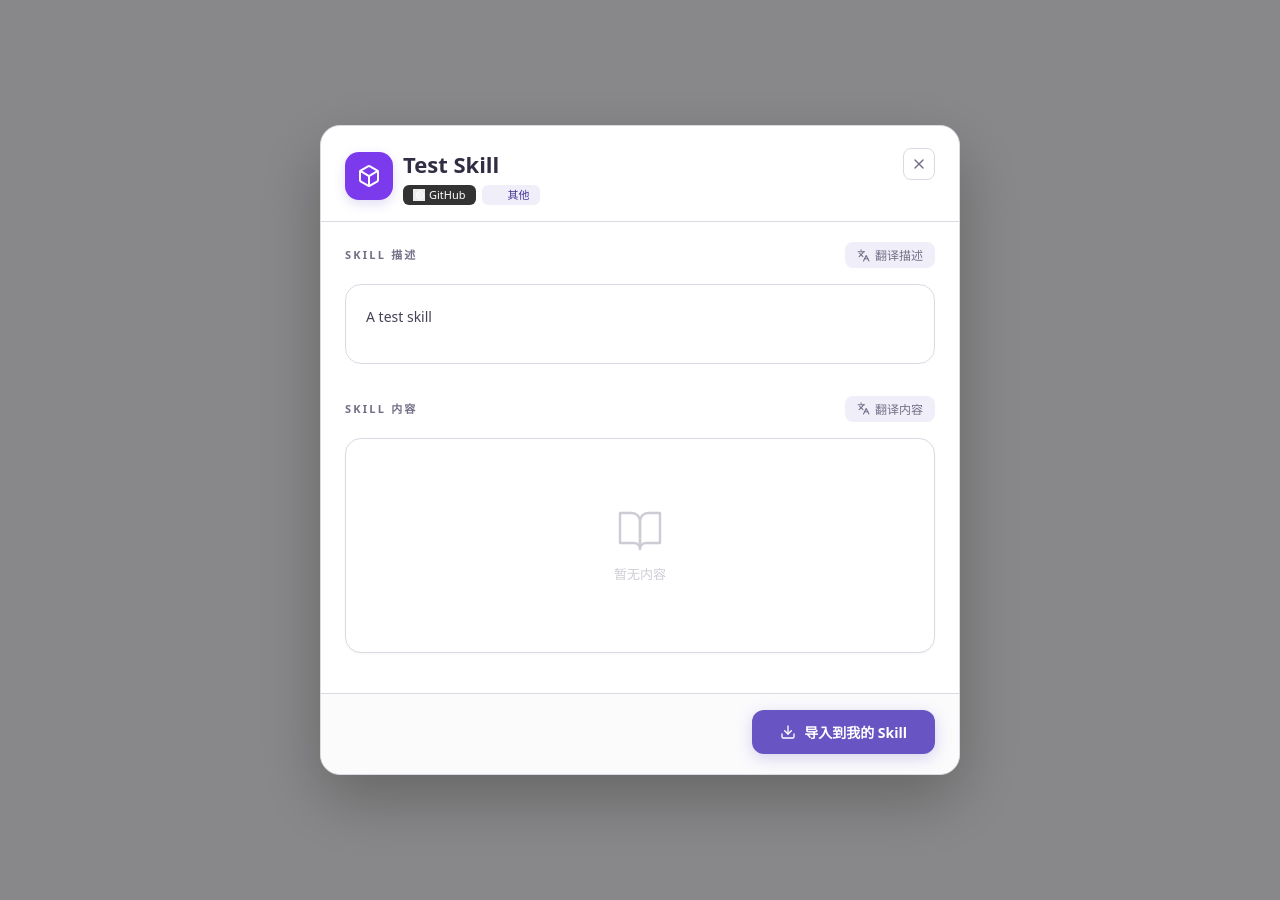
Test: SkillDetailModal › asks for confirmation before importing
Click the button with class "import-btn" at (844, 732), box [752, 710, 935, 754]
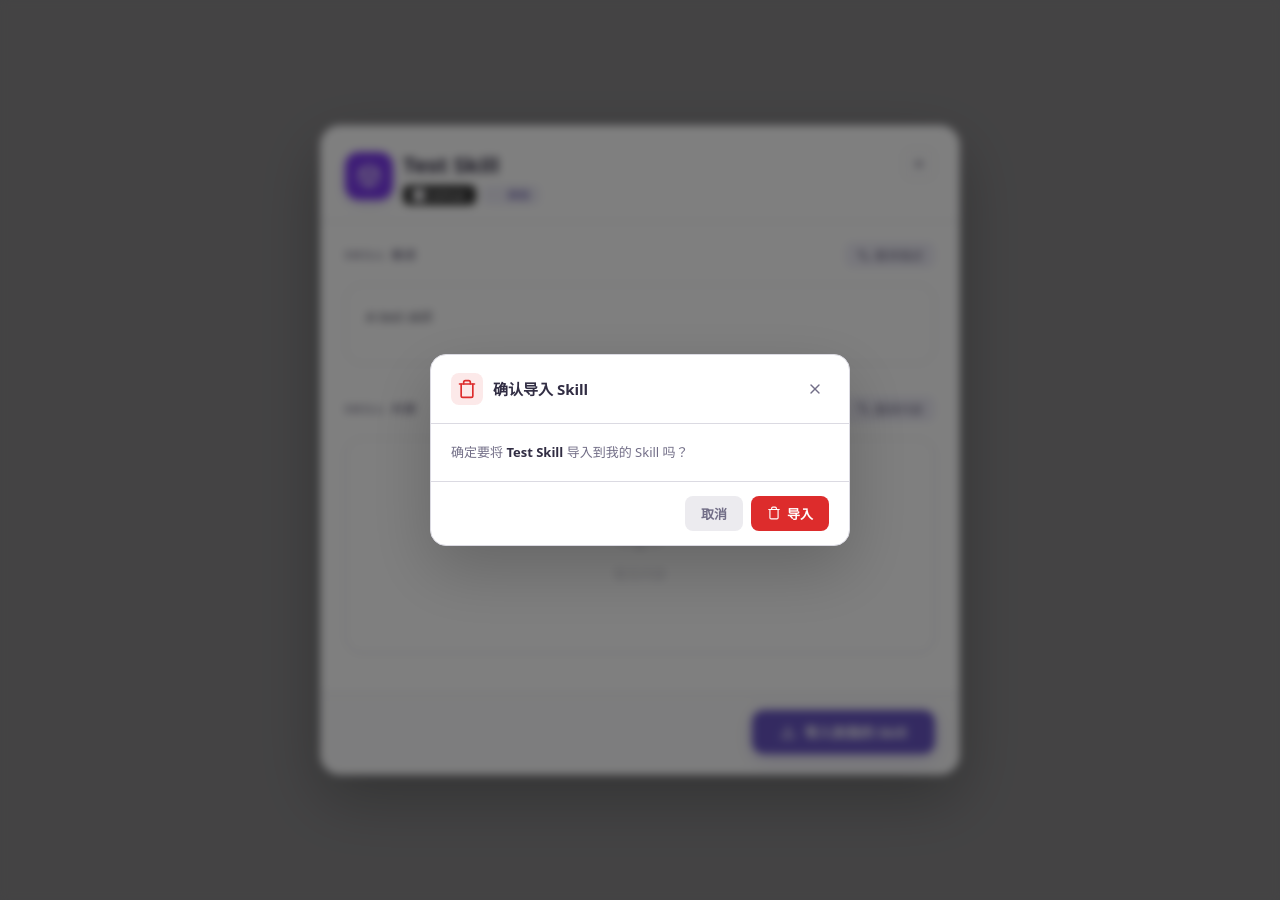
Now the element with class "confirm-modal" is shown, box [430, 354, 850, 546]
Now the element with class "confirm-modal" shows "Test Skill", box [506, 443, 563, 461]
